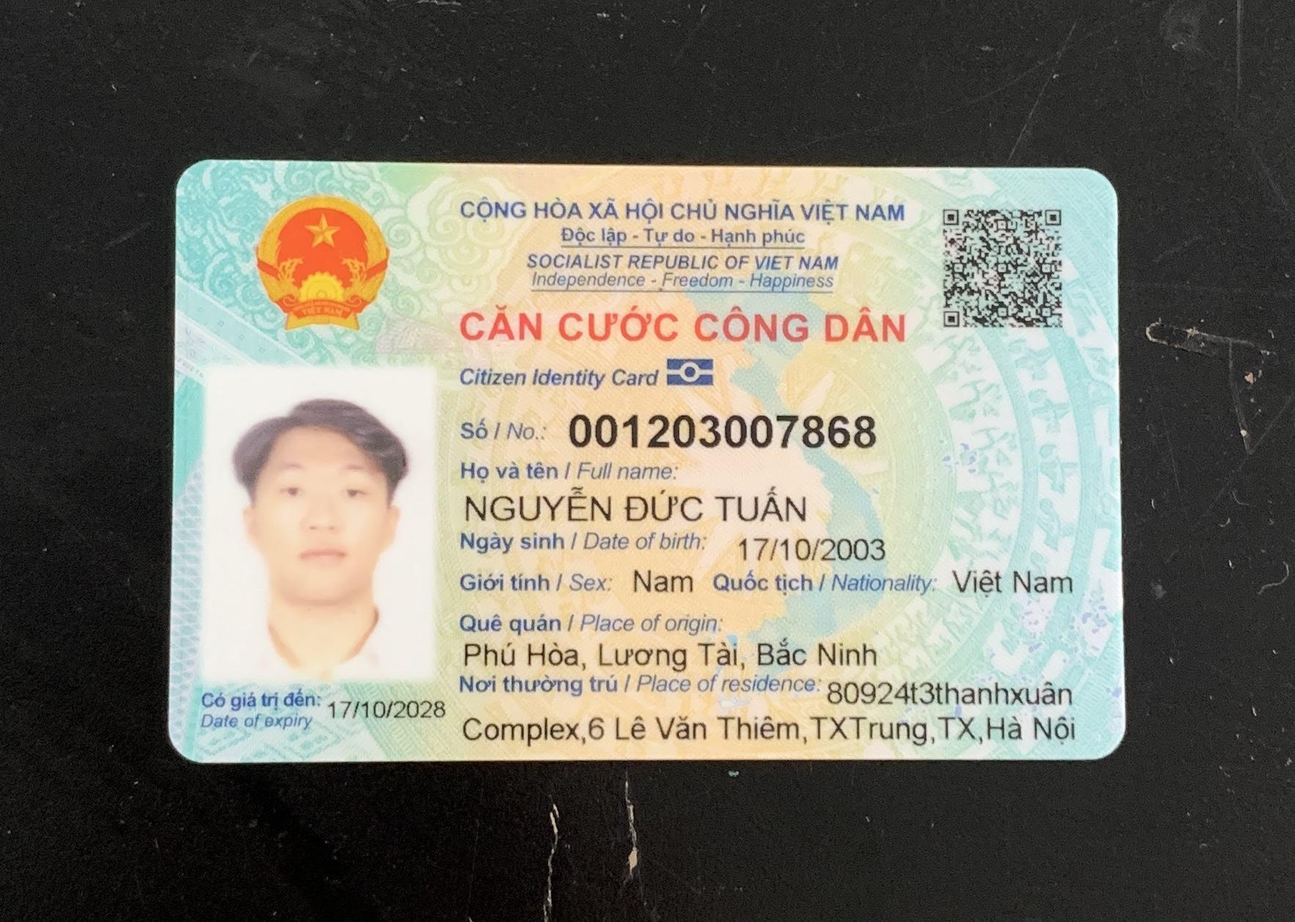ID: (563, 405, 878, 459)
birth: (729, 528, 894, 569)
name: (454, 485, 815, 527)
place: (452, 634, 887, 671)
residence: (452, 707, 1096, 759), (820, 674, 1083, 715)
